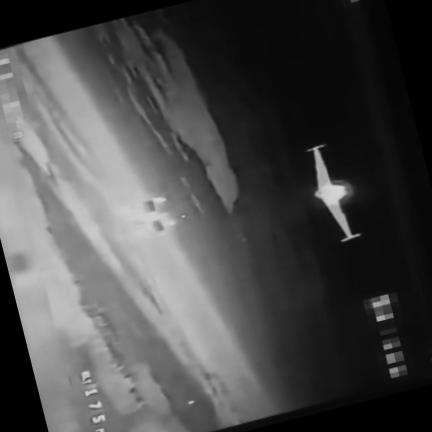Shahed: (306, 145, 360, 242)
